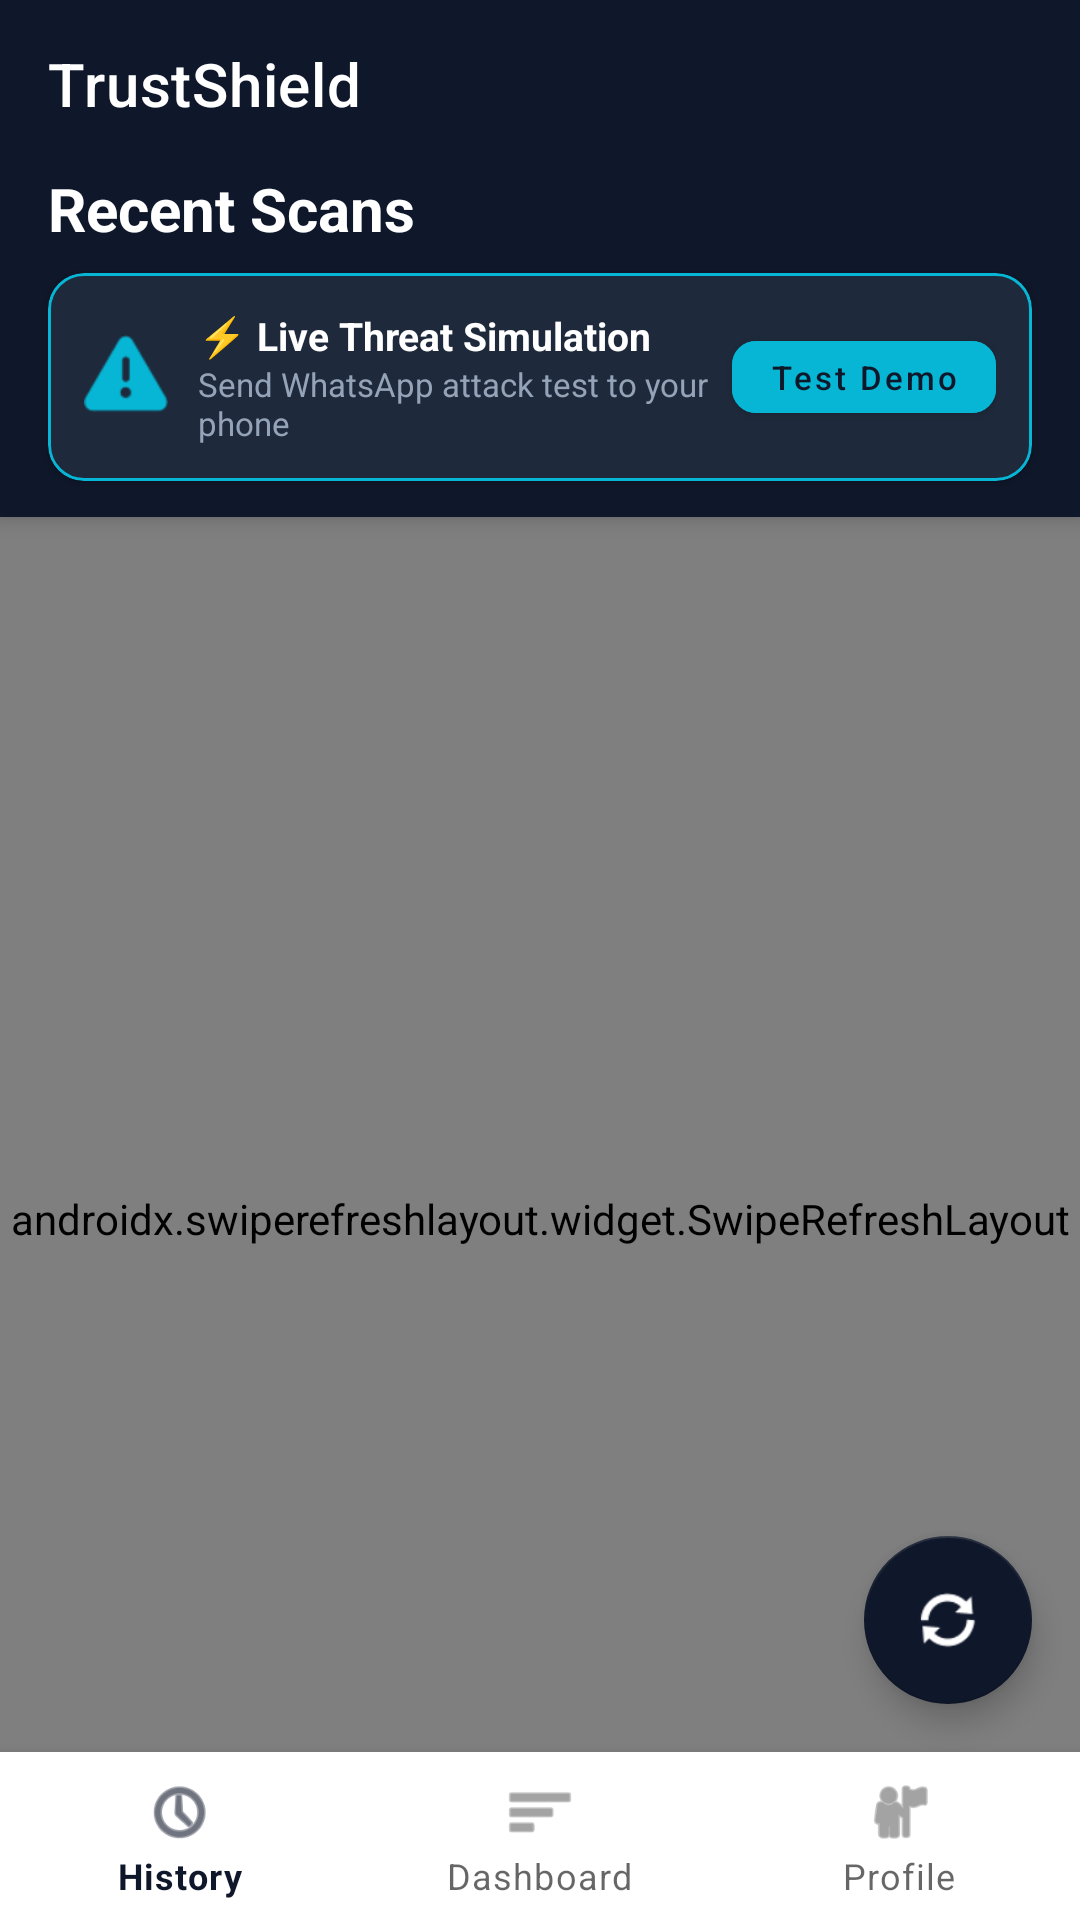

Icons on this 1080px×1920px Android screen, each with its box as (x1, y1, x2, y2):
alert: (84, 335, 168, 412)
Manual Scan: (864, 1536, 1032, 1704)
